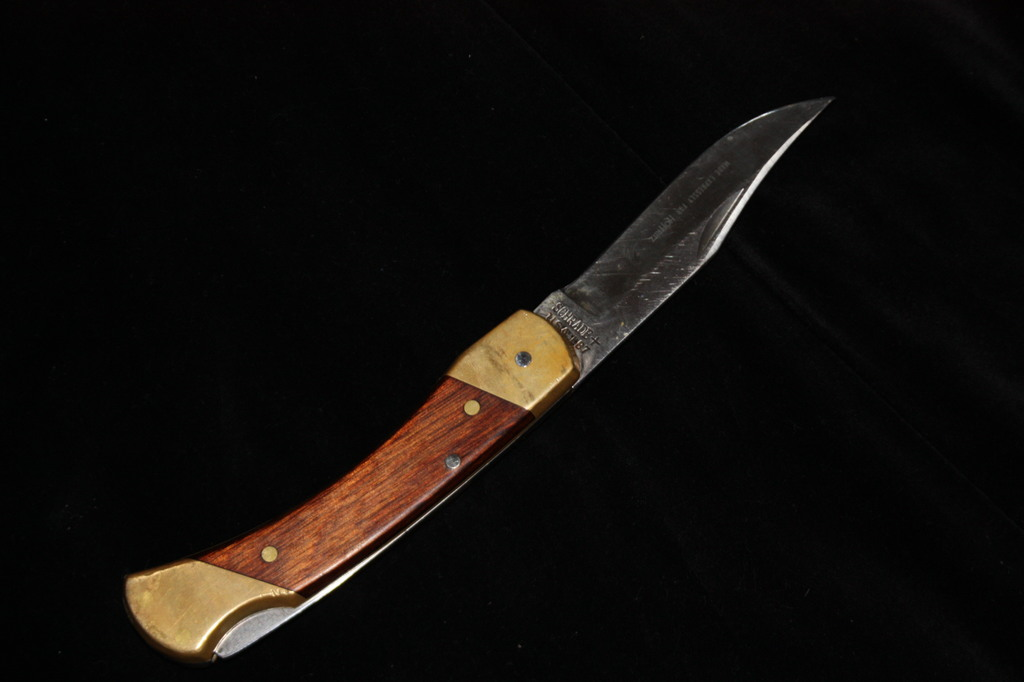knife: (121, 92, 836, 670)
